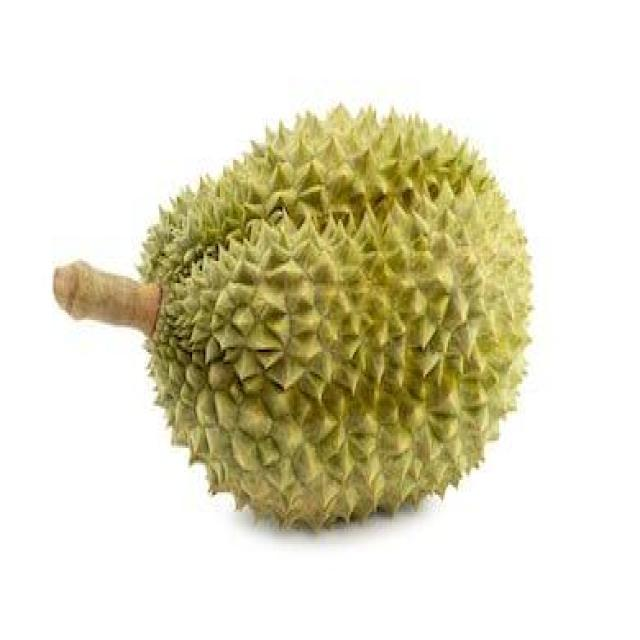mature: (138, 102, 535, 536)
